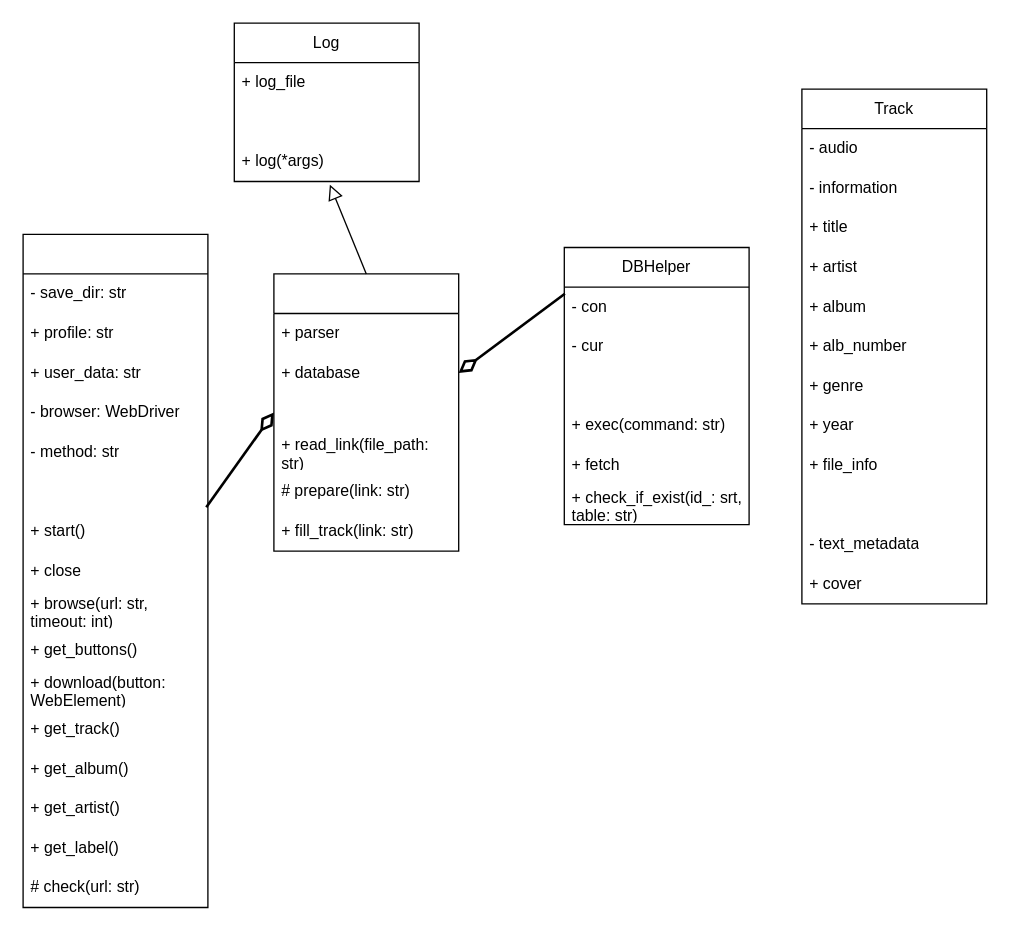
This 1010x931 diagram has some shape labels left out. The box of each missing label's shape, as (x1, y1, x2, y2) in pixels:
Crawler: (273, 273, 459, 551)
YandexMusicParser: (22, 233, 208, 908)
